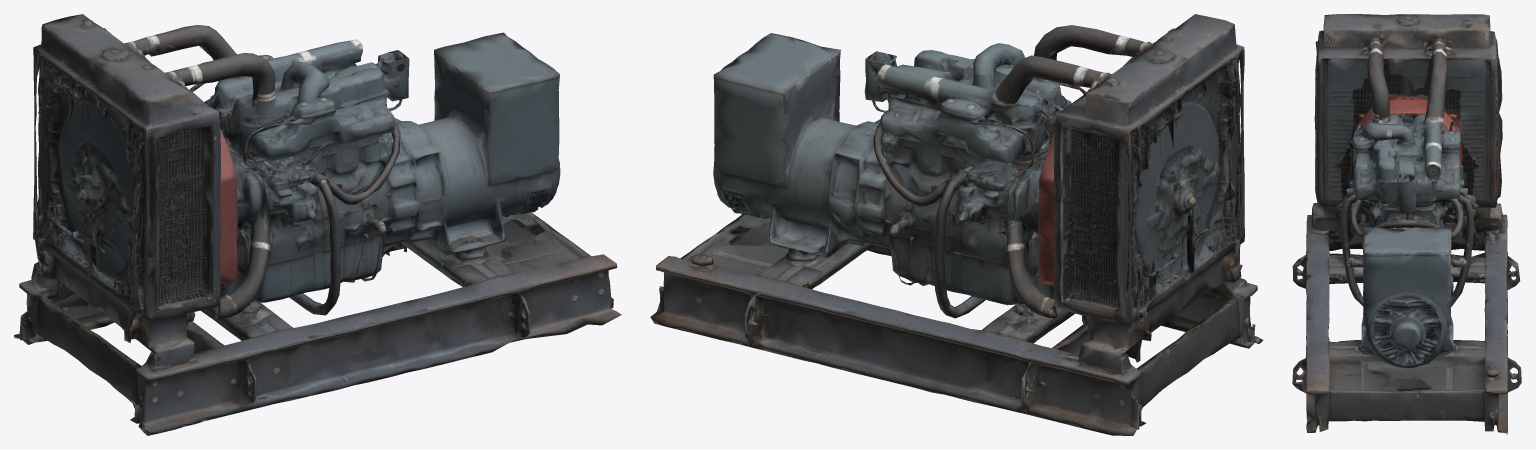
Rendered from B2_EmergencyGenerator.glb.
3 views of the same model, side by side, from view 1: azimuth 30°, elevation 25°; view 2: azimuth 150°, elevation 25°; view 3: azimuth 270°, elevation 25° (orthographic). The views are drawn at different scales.
Visible parts, largest first — view 1: texture_mapping; view 2: texture_mapping; view 3: texture_mapping.
Part boxes in pixels (x1,y1,x2,y2): texture_mapping: (14,14,621,435); texture_mapping: (650,14,1263,435); texture_mapping: (1292,14,1521,434).
Bounding box in the file's own units: 0.9954 × 0.6511 × 0.5318.
1 material, 1 textured.
